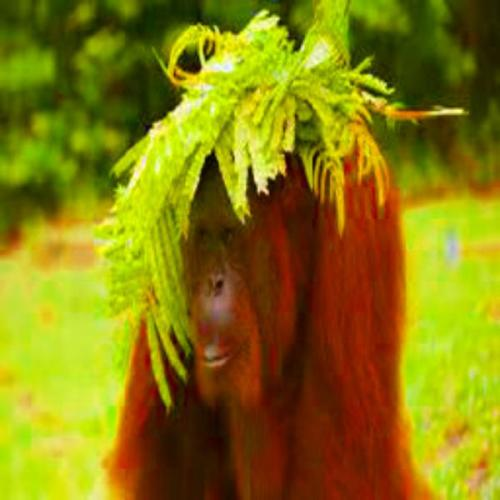orangutan-endangered: (109, 109, 423, 499)
